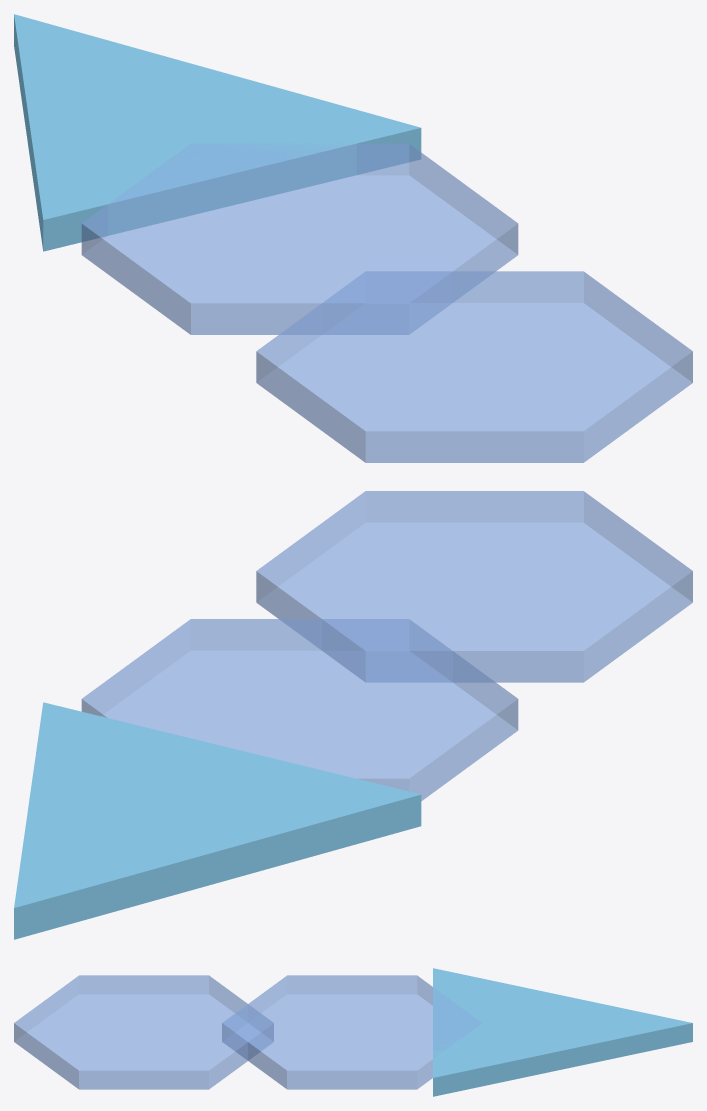
The model's file is razzo_step4.glb.
3 renders of one model, top to bottom at view 1: azimuth 30°, elevation 25°; view 2: azimuth 150°, elevation 25°; view 3: azimuth 270°, elevation 25°, orthographic. The views are drawn at different scales.
Parts seen in each view (by area): view 1: esagono, esagono.001, triangolo_isoscele_grande; view 2: esagono, triangolo_isoscele_grande, esagono.001; view 3: esagono, esagono.001, triangolo_isoscele_grande.
Part boxes in pixels (box(x1,y1,x2,y2)): esagono: box(256, 271, 692, 462); esagono.001: box(81, 143, 518, 334); triangolo_isoscele_grande: box(14, 14, 421, 251); esagono: box(256, 491, 692, 682); triangolo_isoscele_grande: box(14, 702, 421, 939); esagono.001: box(81, 619, 518, 801); esagono: box(14, 975, 273, 1089); esagono.001: box(222, 975, 481, 1089); triangolo_isoscele_grande: box(433, 968, 692, 1096).
Size of the model in its own units: 1 by 0.08 by 2.61.
